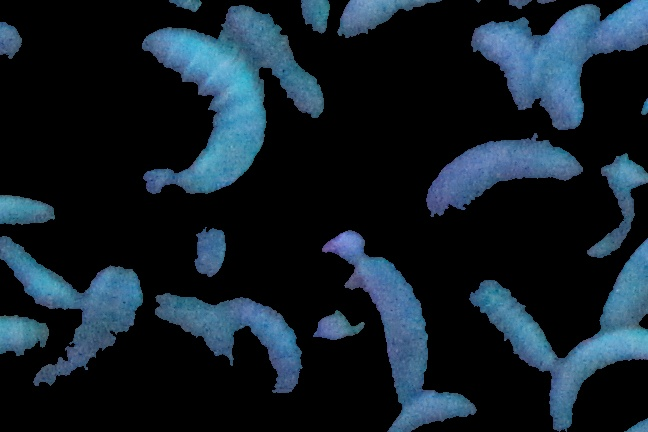larvae: (125, 32, 265, 196), (415, 132, 579, 228), (25, 263, 146, 388), (361, 243, 433, 414), (221, 6, 332, 115), (318, 1, 479, 64), (557, 325, 648, 424), (230, 287, 301, 398), (536, 7, 599, 126), (472, 283, 554, 371), (1, 236, 89, 317), (147, 292, 234, 364), (595, 229, 648, 329), (468, 36, 529, 118), (384, 387, 482, 432), (595, 5, 648, 56), (1, 192, 67, 230)
